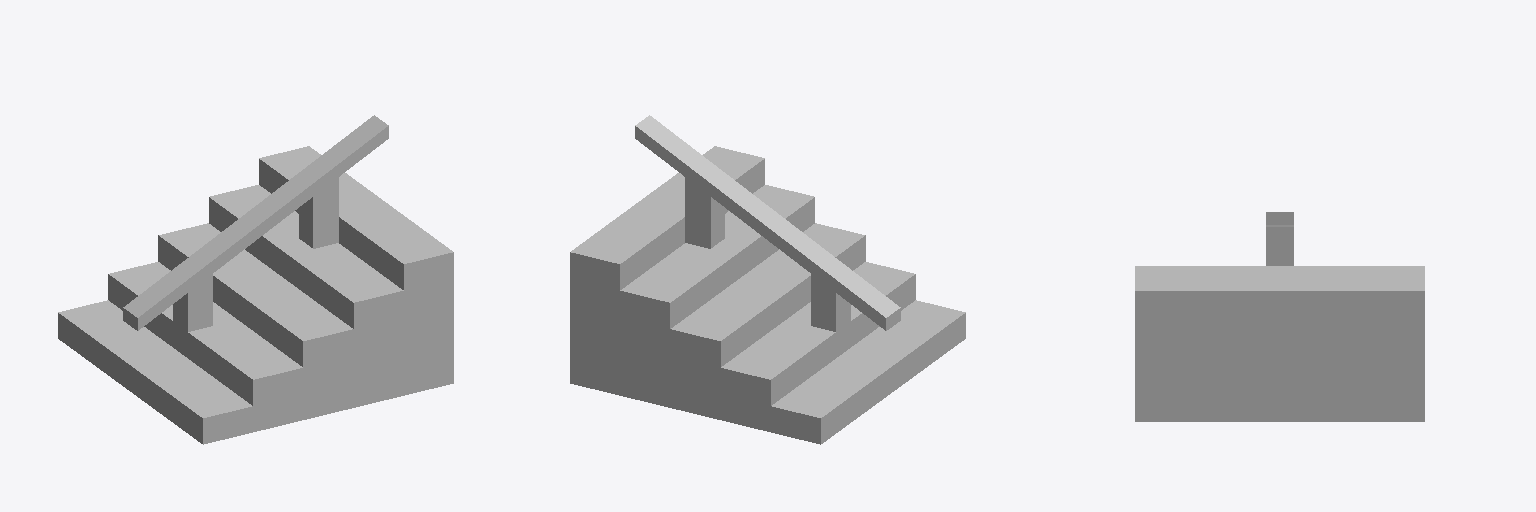
The model's file is Rail_StairsShort.obj.
3 views of the same model, side by side, from view 1: azimuth 30°, elevation 25°; view 2: azimuth 150°, elevation 25°; view 3: azimuth 270°, elevation 25° (orthographic).
Parts seen in each view (by area): view 1: Rail_StairsShort; view 2: Rail_StairsShort; view 3: Rail_StairsShort.
Boxes of the visible parts, box(x1,y1,x2,y2) form: Rail_StairsShort: box(58, 115, 453, 444); Rail_StairsShort: box(570, 115, 965, 444); Rail_StairsShort: box(1135, 212, 1424, 421).
Size of the model in its own units: 10 by 8 by 10.